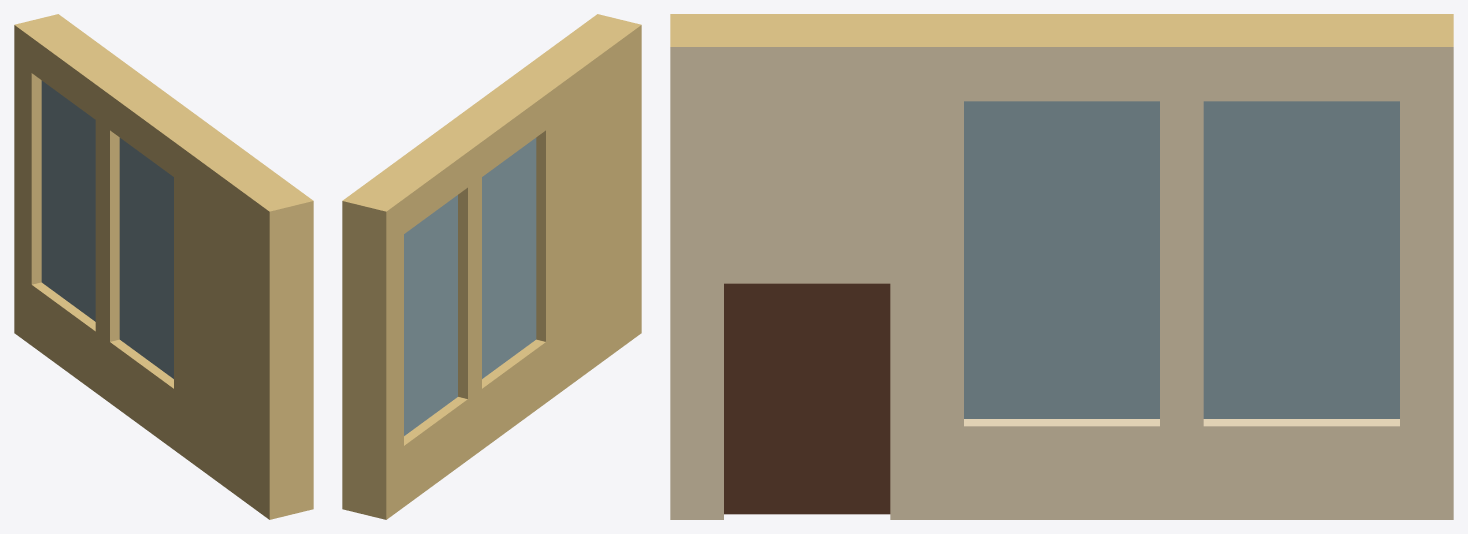
File: SalleGardes_Mur03.fbx
3 views of the same model, side by side, from view 1: azimuth 30°, elevation 25°; view 2: azimuth 150°, elevation 25°; view 3: azimuth 270°, elevation 25° (orthographic). The views are drawn at different scales.
Visible parts, largest first — view 1: Mur03; view 2: Mur03; view 3: Mur03.
Boxes of the visible parts, <box> form: Mur03: <box>14,14,313,519</box>; Mur03: <box>342,14,641,519</box>; Mur03: <box>670,14,1453,519</box>.
Size of the model in its own units: 0.9728 by 6.49 by 9.74.
